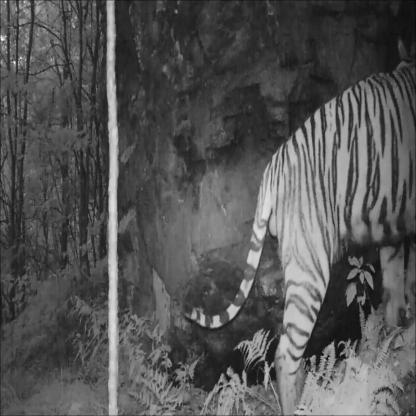Tiger: (188, 6, 416, 414)
